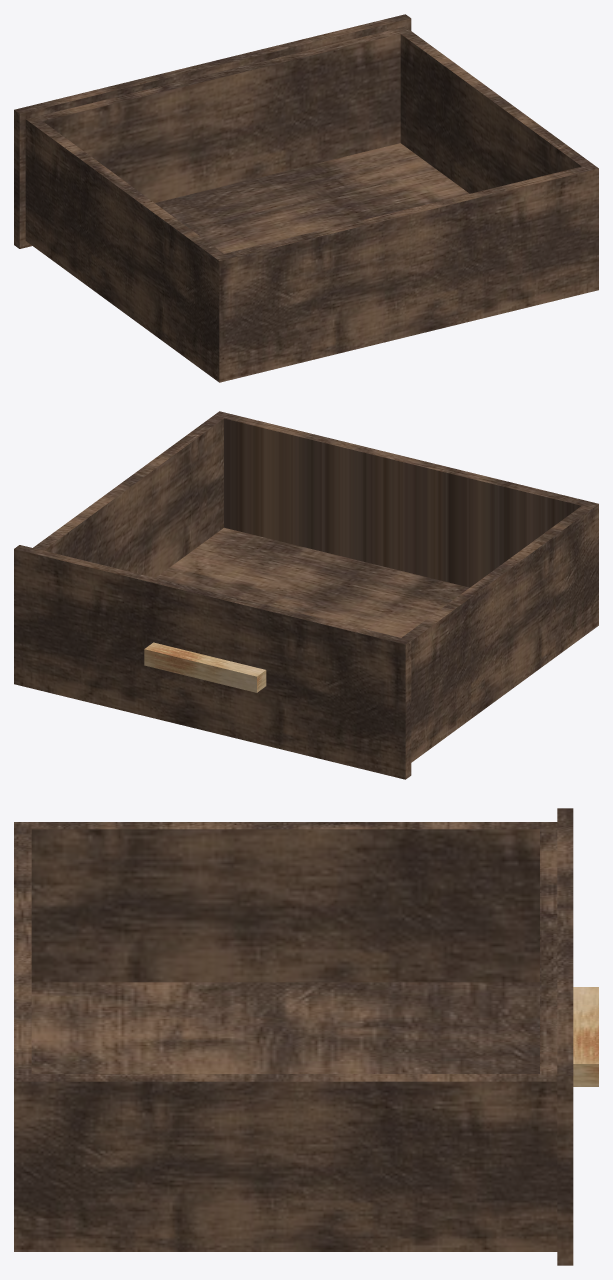
File: Drawer.glb
The picture shows the model from 3 angles, top to bottom: view 1: azimuth 30°, elevation 25°; view 2: azimuth 150°, elevation 25°; view 3: azimuth 270°, elevation 25°; orthographic projection. The views are drawn at different scales.
Visible parts, largest first — view 1: Drawer; view 2: Drawer; view 3: Drawer.
Part boxes in pixels (bbox=[...]): Drawer: bbox=[14, 14, 598, 382]; Drawer: bbox=[14, 411, 598, 779]; Drawer: bbox=[14, 808, 598, 1265].
Bounding box in the file's own units: 0.422 × 0.1393 × 0.3894.
2 materials, 2 textured.
